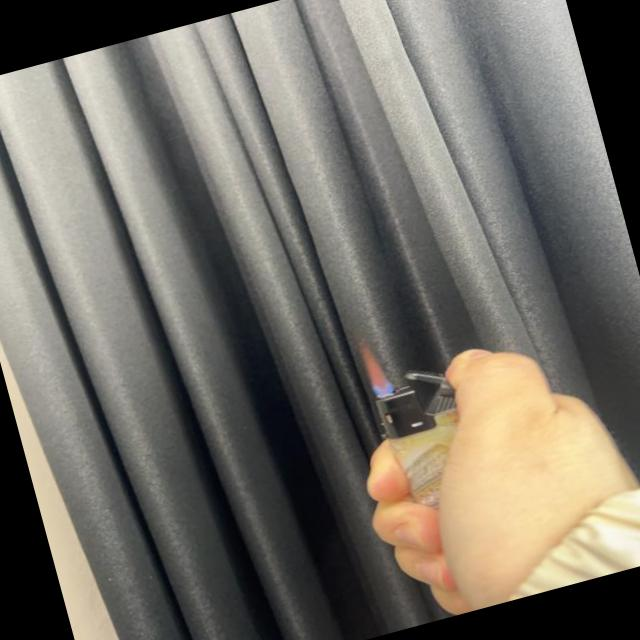Fire: (359, 341, 395, 400)
